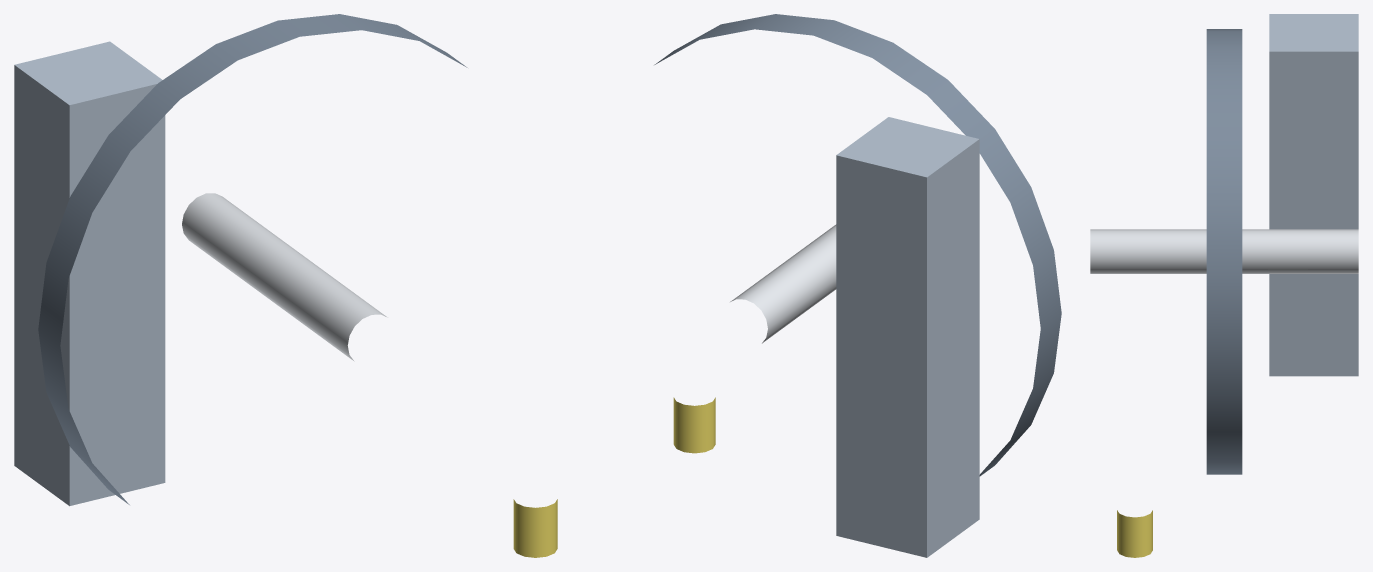
The model's file is flywheel_moment_of_inertia.glb.
3 views of the same model, side by side, from view 1: azimuth 30°, elevation 25°; view 2: azimuth 150°, elevation 25°; view 3: azimuth 270°, elevation 25° (orthographic). The views are drawn at different scales.
Visible parts, largest first — view 1: WallMountingBracketsAssembly, HeavyCastIronFlywheelDisc, AxleShaftMountedOnBallBearings, SuspendedCordHangingMassPan; view 2: WallMountingBracketsAssembly, HeavyCastIronFlywheelDisc, AxleShaftMountedOnBallBearings, SuspendedCordHangingMassPan; view 3: WallMountingBracketsAssembly, HeavyCastIronFlywheelDisc, AxleShaftMountedOnBallBearings, SuspendedCordHangingMassPan.
Part boxes in pixels (x1,y1,x2,y2): WallMountingBracketsAssembly: (14, 41, 165, 506); HeavyCastIronFlywheelDisc: (38, 14, 467, 504); AxleShaftMountedOnBallBearings: (182, 193, 387, 361); SuspendedCordHangingMassPan: (513, 499, 557, 557); WallMountingBracketsAssembly: (836, 117, 979, 557); HeavyCastIronFlywheelDisc: (654, 14, 1061, 476); AxleShaftMountedOnBallBearings: (730, 224, 836, 343); SuspendedCordHangingMassPan: (673, 397, 715, 453); WallMountingBracketsAssembly: (1269, 14, 1358, 376); HeavyCastIronFlywheelDisc: (1206, 29, 1242, 474); AxleShaftMountedOnBallBearings: (1090, 229, 1358, 273); SuspendedCordHangingMassPan: (1117, 510, 1152, 557).
Bounding box in the file's own units: 1 × 1.05 × 0.6.
